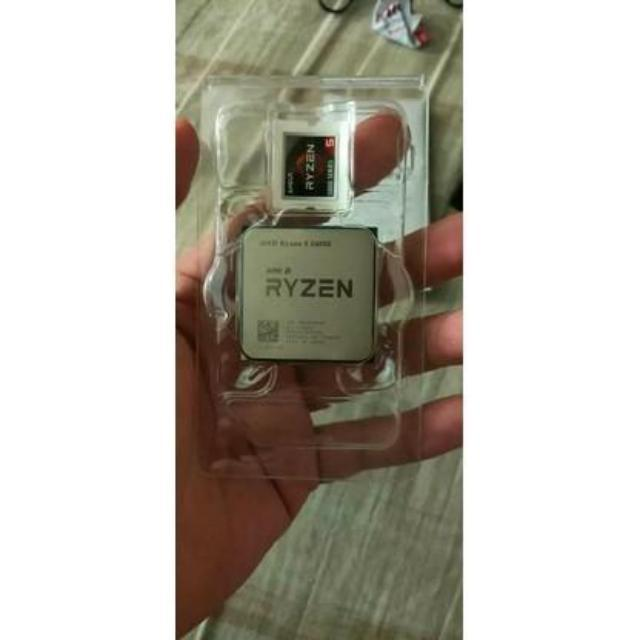CPU: (235, 225, 378, 368)
